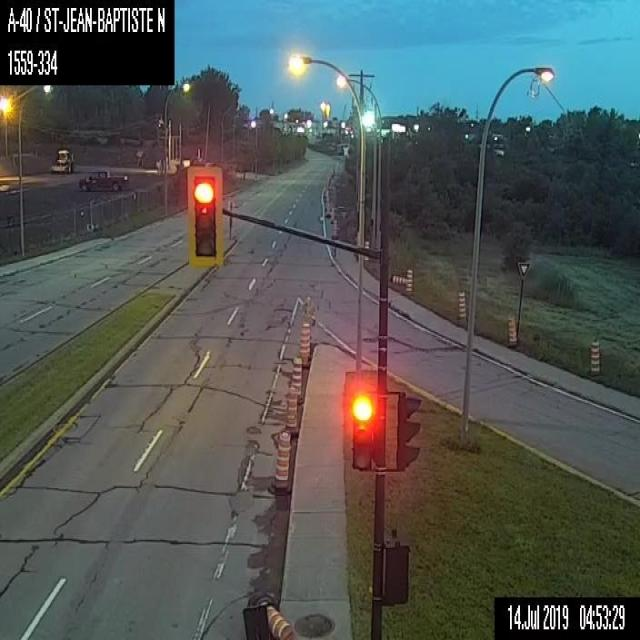construction: (243, 589, 292, 639), (268, 428, 290, 491), (283, 384, 297, 434), (289, 354, 303, 402), (298, 322, 311, 366), (589, 342, 600, 378), (458, 289, 466, 324), (506, 317, 516, 344), (407, 267, 412, 297), (392, 274, 407, 284), (365, 240, 369, 260), (333, 219, 337, 237), (326, 198, 330, 214), (330, 206, 334, 221)
vehicle: (76, 169, 127, 191), (49, 149, 72, 172)
